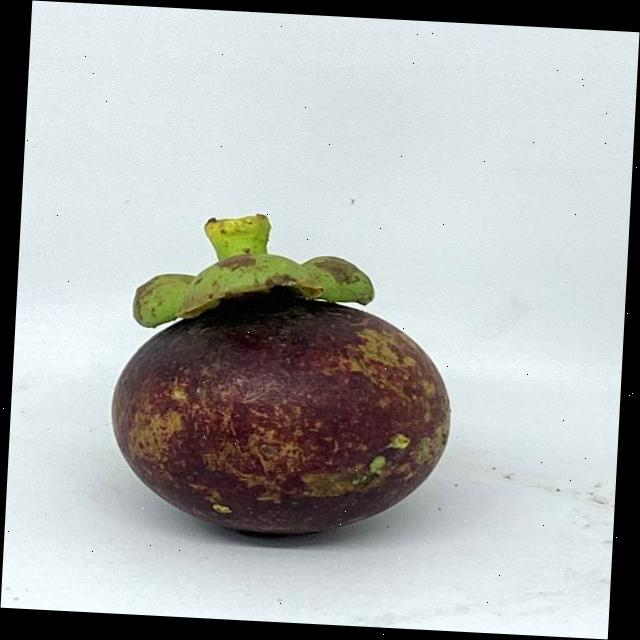mangosteen: (94, 202, 474, 548)
